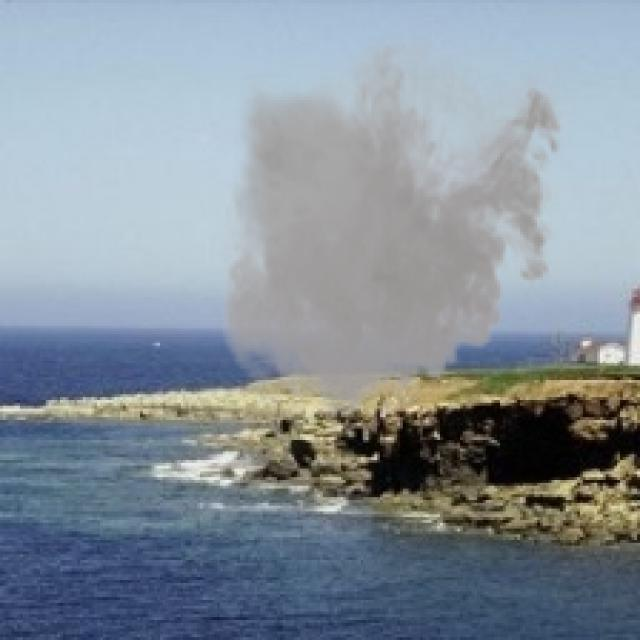smoke: (209, 20, 574, 434)
